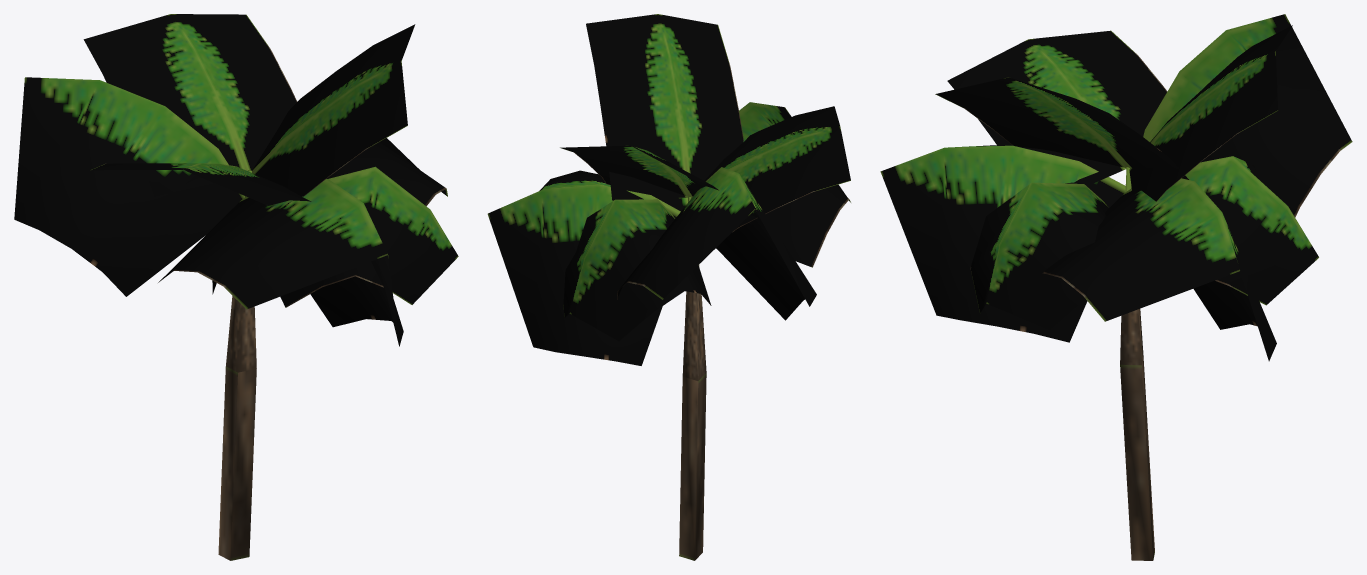
Rendered from palm_tree_2_6.dae.
3 views of the same model, side by side, from view 1: azimuth 30°, elevation 25°; view 2: azimuth 150°, elevation 25°; view 3: azimuth 270°, elevation 25° (orthographic). The views are drawn at different scales.
Parts seen in each view (by area): view 1: Plane.001; view 2: Plane.001; view 3: Plane.001.
Boxes of the visible parts, left/top/right/bottom form: Plane.001: left=14, top=14, right=458, bottom=560; Plane.001: left=487, top=14, right=850, bottom=560; Plane.001: left=880, top=14, right=1352, bottom=560.
Size of the model in its own units: 0.3143 by 0.3392 by 0.4223.
1 material, 1 textured.
